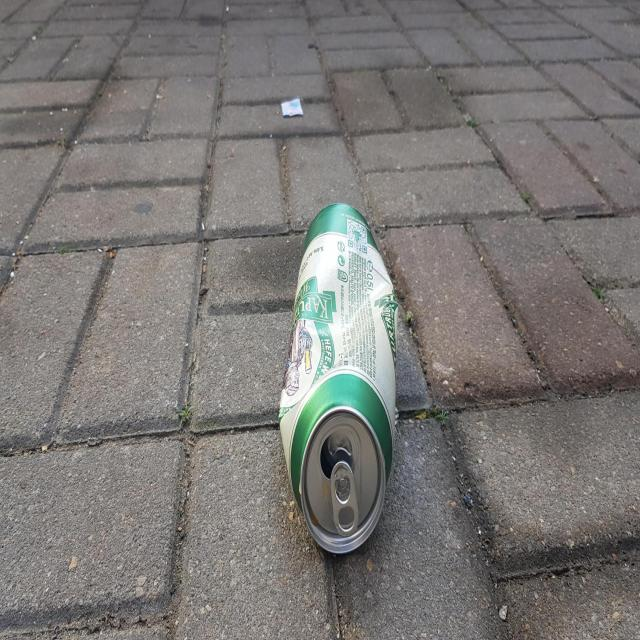can: (279, 203, 399, 553)
